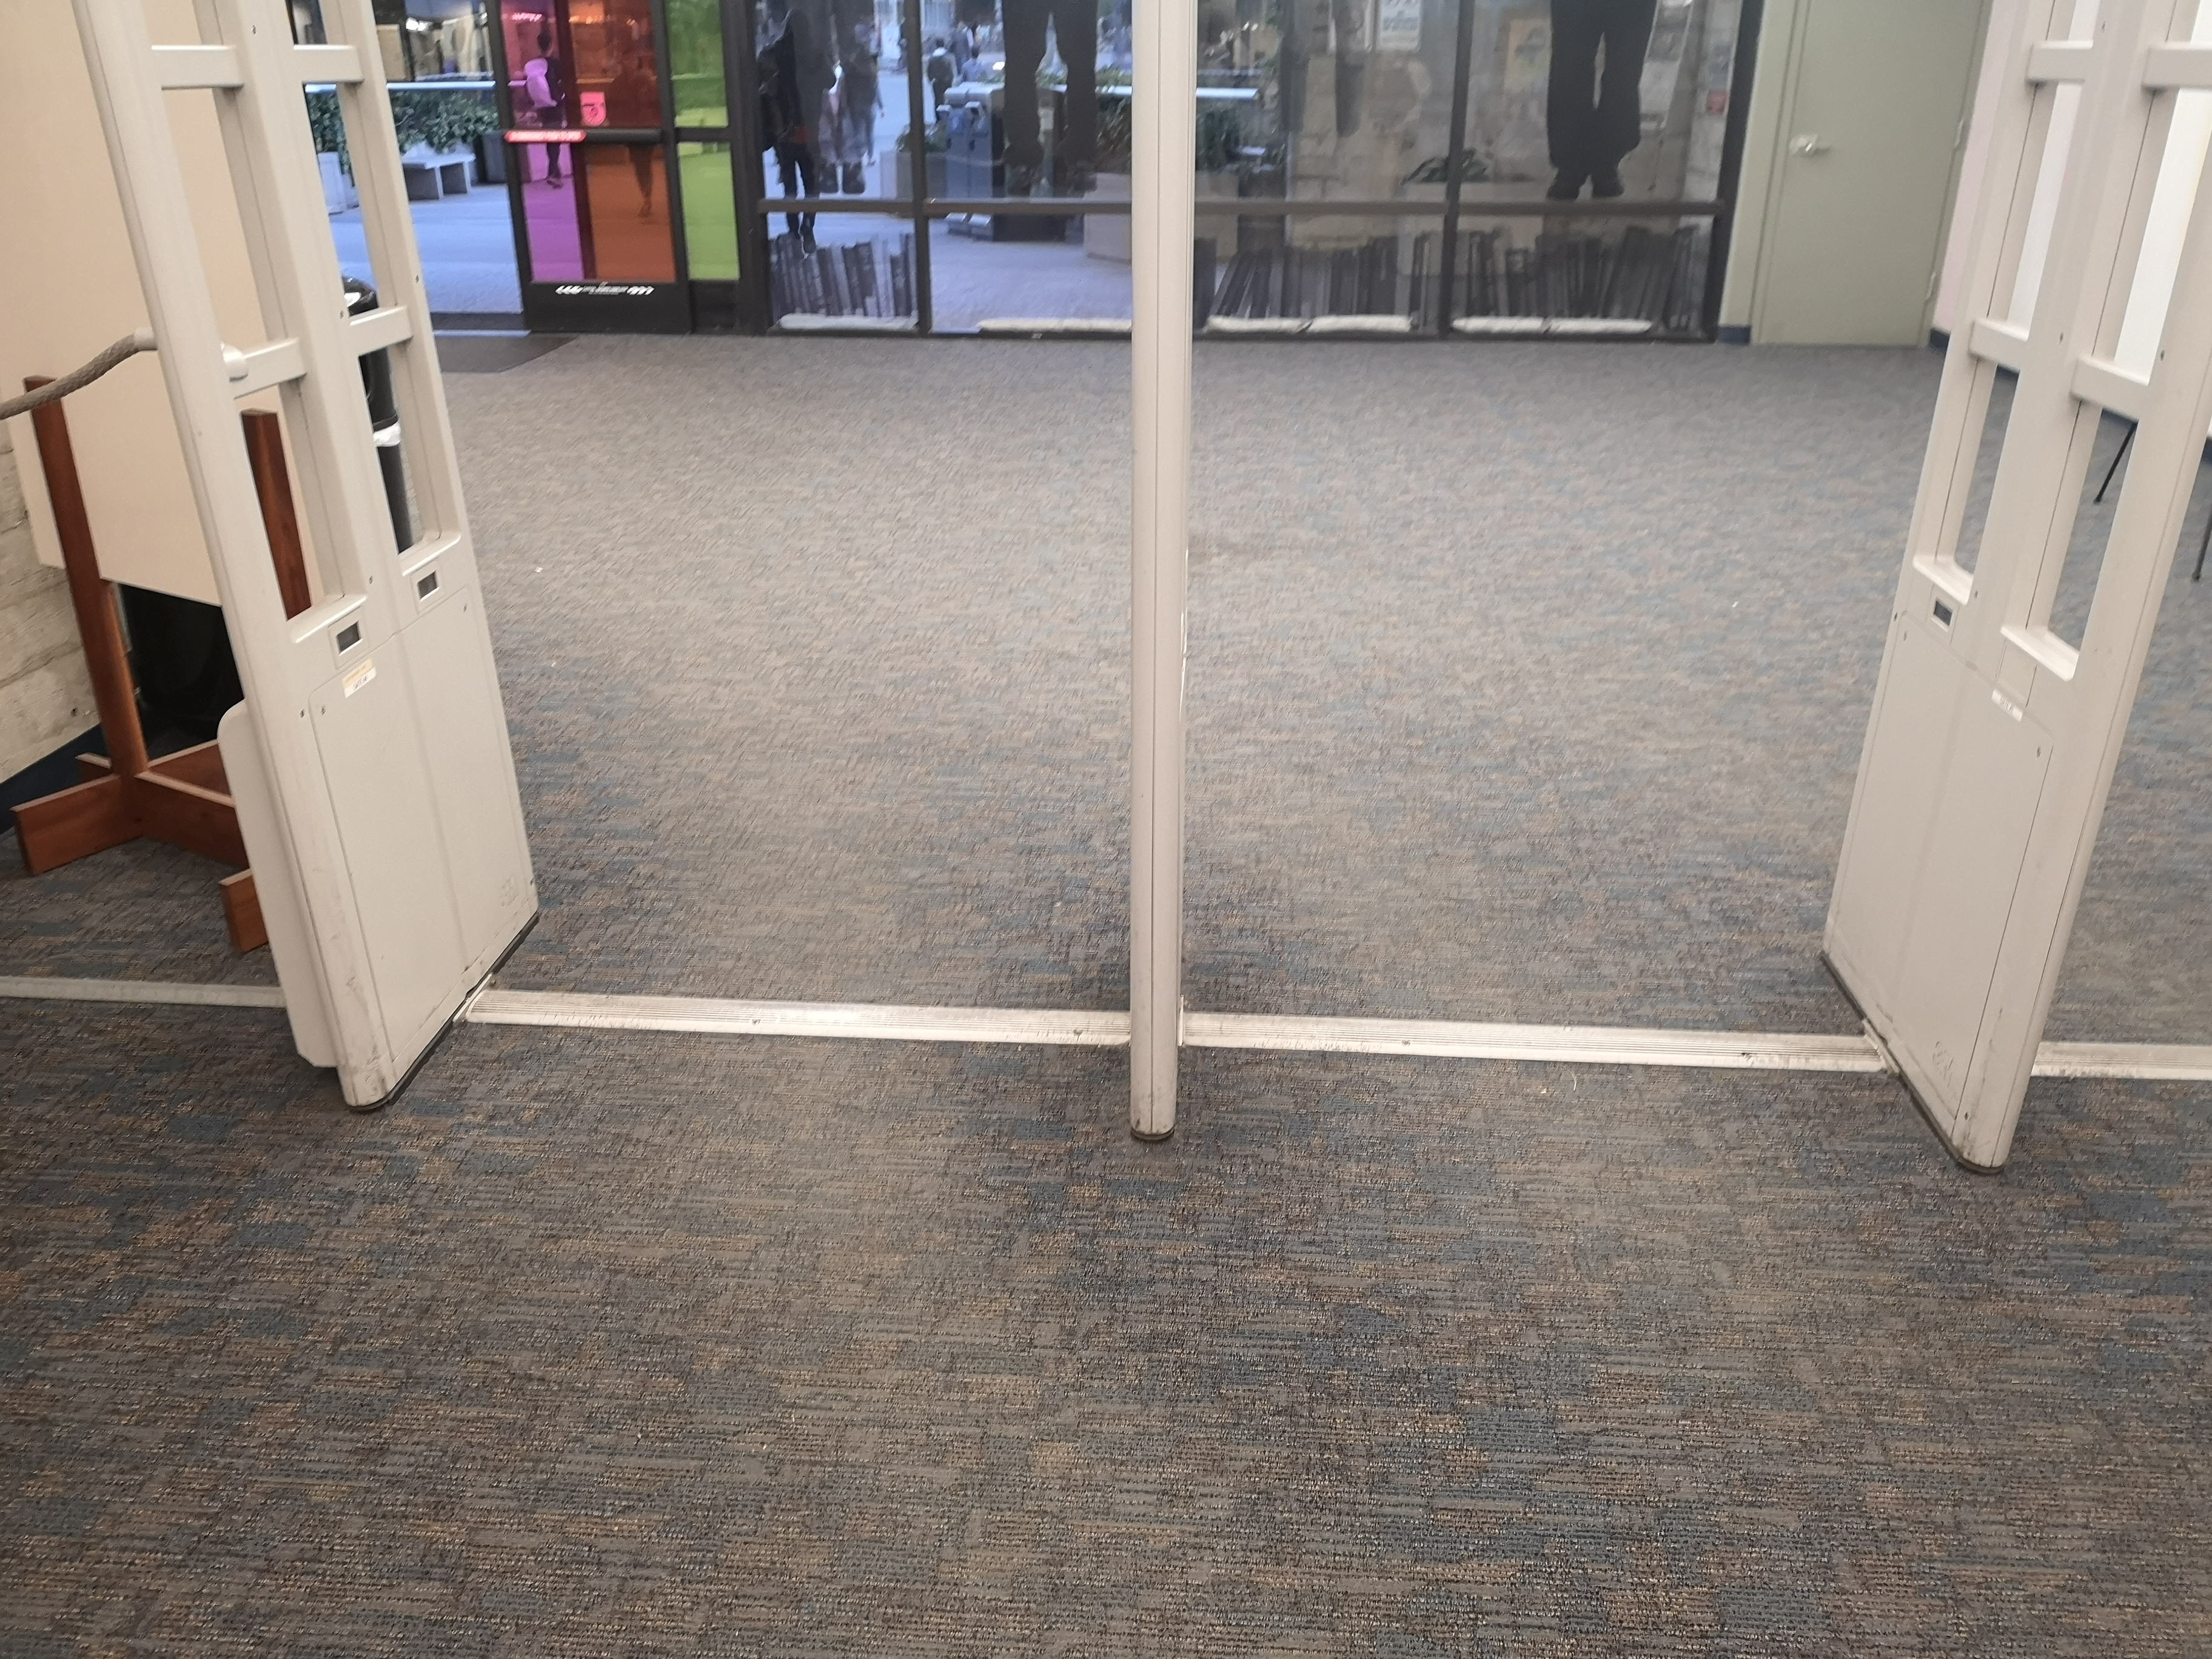Obstacle: (73, 49, 554, 1103), (1820, 45, 2207, 1182), (495, 56, 1991, 329), (1116, 42, 1197, 1140)
